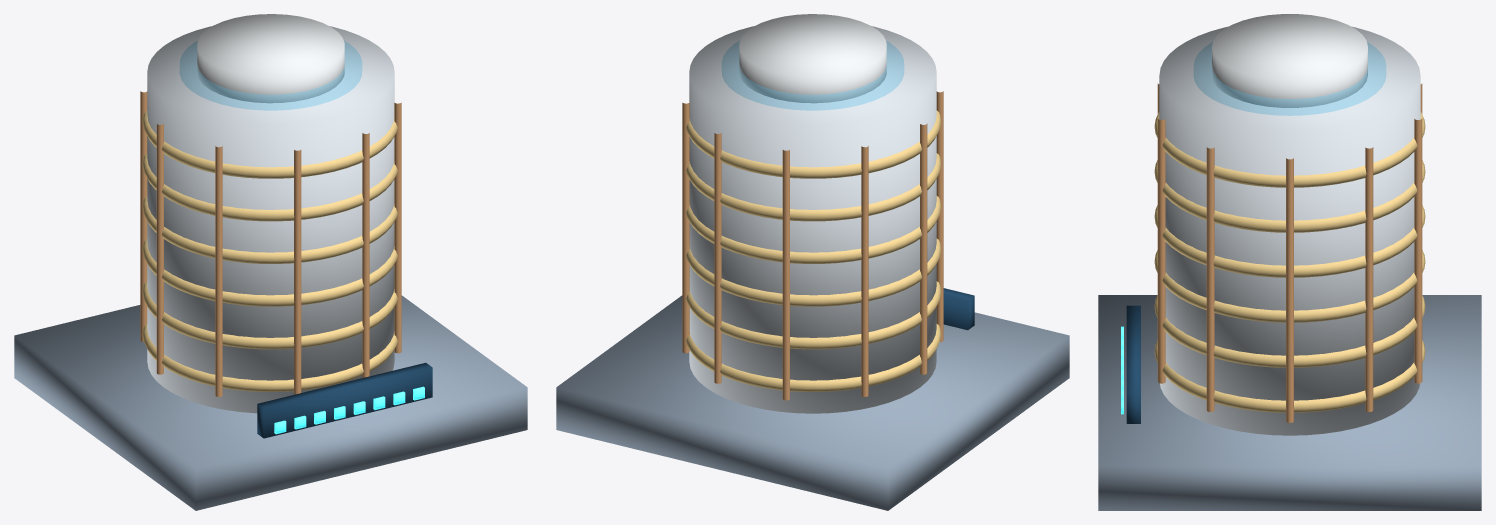
File: 35_L91_RedundantAtomicClockReference.glb
3 views of the same model, side by side, from view 1: azimuth 30°, elevation 25°; view 2: azimuth 150°, elevation 25°; view 3: azimuth 270°, elevation 25° (orthographic). The views are drawn at different scales.
Parts seen in each view (by area): view 1: L91_RedundantAtomicClockRefer_Part_0001, L91_RedundantAtomicClockRefer_Part_0000, L91_RedundantAtomicClockRefer_Part_0003, L91_RedundantAtomicClockRefer_Part_0005, L91_RedundantAtomicClockRefer_Part_0004, L91_RedundantAtomicClockRefer_Part_0007, L91_RedundantAtomicClockRefer_Part_0002, L91_RedundantAtomicClockRefer_Part_0008; view 2: L91_RedundantAtomicClockRefer_Part_0001, L91_RedundantAtomicClockRefer_Part_0000, L91_RedundantAtomicClockRefer_Part_0003, L91_RedundantAtomicClockRefer_Part_0005, L91_RedundantAtomicClockRefer_Part_0004, L91_RedundantAtomicClockRefer_Part_0002, L91_RedundantAtomicClockRefer_Part_0007; view 3: L91_RedundantAtomicClockRefer_Part_0001, L91_RedundantAtomicClockRefer_Part_0000, L91_RedundantAtomicClockRefer_Part_0003, L91_RedundantAtomicClockRefer_Part_0005, L91_RedundantAtomicClockRefer_Part_0004, L91_RedundantAtomicClockRefer_Part_0002, L91_RedundantAtomicClockRefer_Part_0007.
Boxes of the visible parts, box(x1,y1,x2,y2) form: L91_RedundantAtomicClockRefer_Part_0001: box(147, 26, 394, 413); L91_RedundantAtomicClockRefer_Part_0000: box(14, 295, 527, 510); L91_RedundantAtomicClockRefer_Part_0003: box(142, 110, 397, 391); L91_RedundantAtomicClockRefer_Part_0005: box(197, 14, 344, 103); L91_RedundantAtomicClockRefer_Part_0004: box(140, 91, 401, 396); L91_RedundantAtomicClockRefer_Part_0007: box(257, 362, 432, 438); L91_RedundantAtomicClockRefer_Part_0002: box(180, 41, 361, 110); L91_RedundantAtomicClockRefer_Part_0008: box(274, 386, 424, 434); L91_RedundantAtomicClockRefer_Part_0001: box(689, 26, 936, 413); L91_RedundantAtomicClockRefer_Part_0000: box(556, 295, 1069, 510); L91_RedundantAtomicClockRefer_Part_0003: box(686, 110, 941, 391); L91_RedundantAtomicClockRefer_Part_0005: box(739, 14, 886, 103); L91_RedundantAtomicClockRefer_Part_0004: box(682, 91, 943, 400); L91_RedundantAtomicClockRefer_Part_0002: box(722, 41, 903, 110); L91_RedundantAtomicClockRefer_Part_0007: box(943, 288, 974, 330); L91_RedundantAtomicClockRefer_Part_0001: box(1159, 26, 1420, 435); L91_RedundantAtomicClockRefer_Part_0000: box(1098, 295, 1481, 510); L91_RedundantAtomicClockRefer_Part_0003: box(1154, 111, 1425, 412); L91_RedundantAtomicClockRefer_Part_0005: box(1212, 14, 1367, 107); L91_RedundantAtomicClockRefer_Part_0004: box(1157, 83, 1422, 422); L91_RedundantAtomicClockRefer_Part_0002: box(1194, 42, 1385, 115); L91_RedundantAtomicClockRefer_Part_0007: box(1126, 305, 1140, 423).
Bounding box in the file's own units: 2.85 × 2.94 × 2.7.
